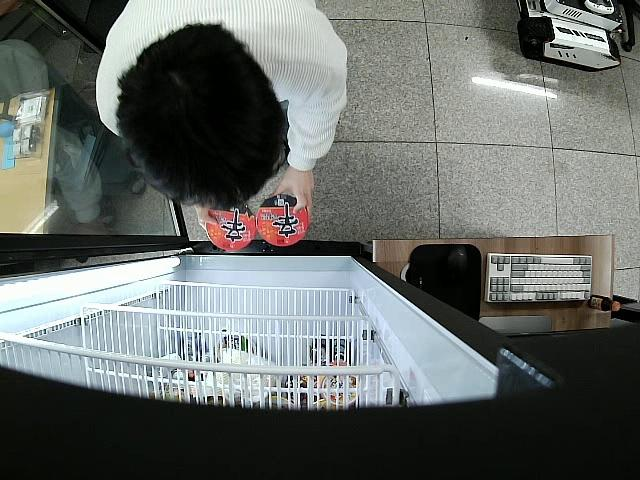00_hand: (271, 168, 316, 214)
01_shinRamen_L: (255, 194, 309, 248), (204, 204, 256, 252)
